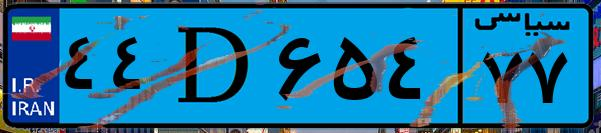4: (385, 28, 445, 110), (57, 26, 110, 100), (110, 28, 158, 98)
5: (330, 28, 385, 110)
6: (270, 28, 330, 110)
7: (475, 38, 525, 113), (525, 38, 570, 115)
D: (158, 12, 270, 120)
